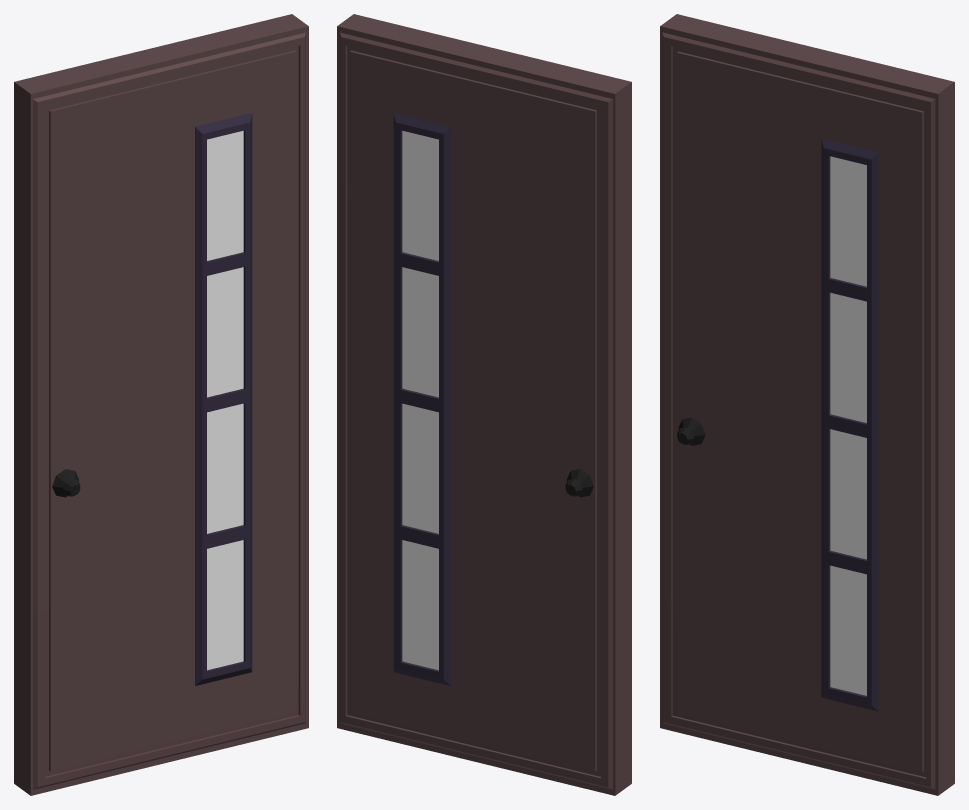
File: SingleDoor.fbx
3 views of the same model, side by side, from view 1: azimuth 30°, elevation 25°; view 2: azimuth 150°, elevation 25°; view 3: azimuth 330°, elevation 25° (orthographic).
Visible parts, largest first — view 1: Door_6; view 2: Door_6; view 3: Door_6.
Boxes of the visible parts, x1,y1,x2,y2 form: Door_6: (14,14,308,795); Door_6: (337,14,631,795); Door_6: (660,14,954,795).
Size of the model in its own units: 0.8699 by 2.1 by 0.2106.
